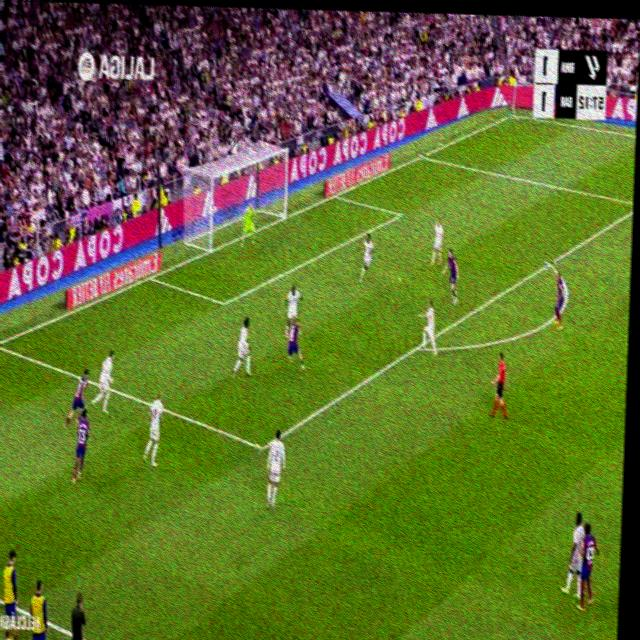bigarea_bottom_inner: (255, 435, 268, 458)
bigarea_bottom_outter: (0, 334, 1, 354)
bigarea_top_outter: (418, 147, 427, 163)
corner: (508, 107, 519, 119)
smallarea_bottom_inner: (220, 292, 229, 313)
smallarea_top_inner: (398, 207, 405, 221)
top_arc_area_intersection: (545, 252, 554, 272)
